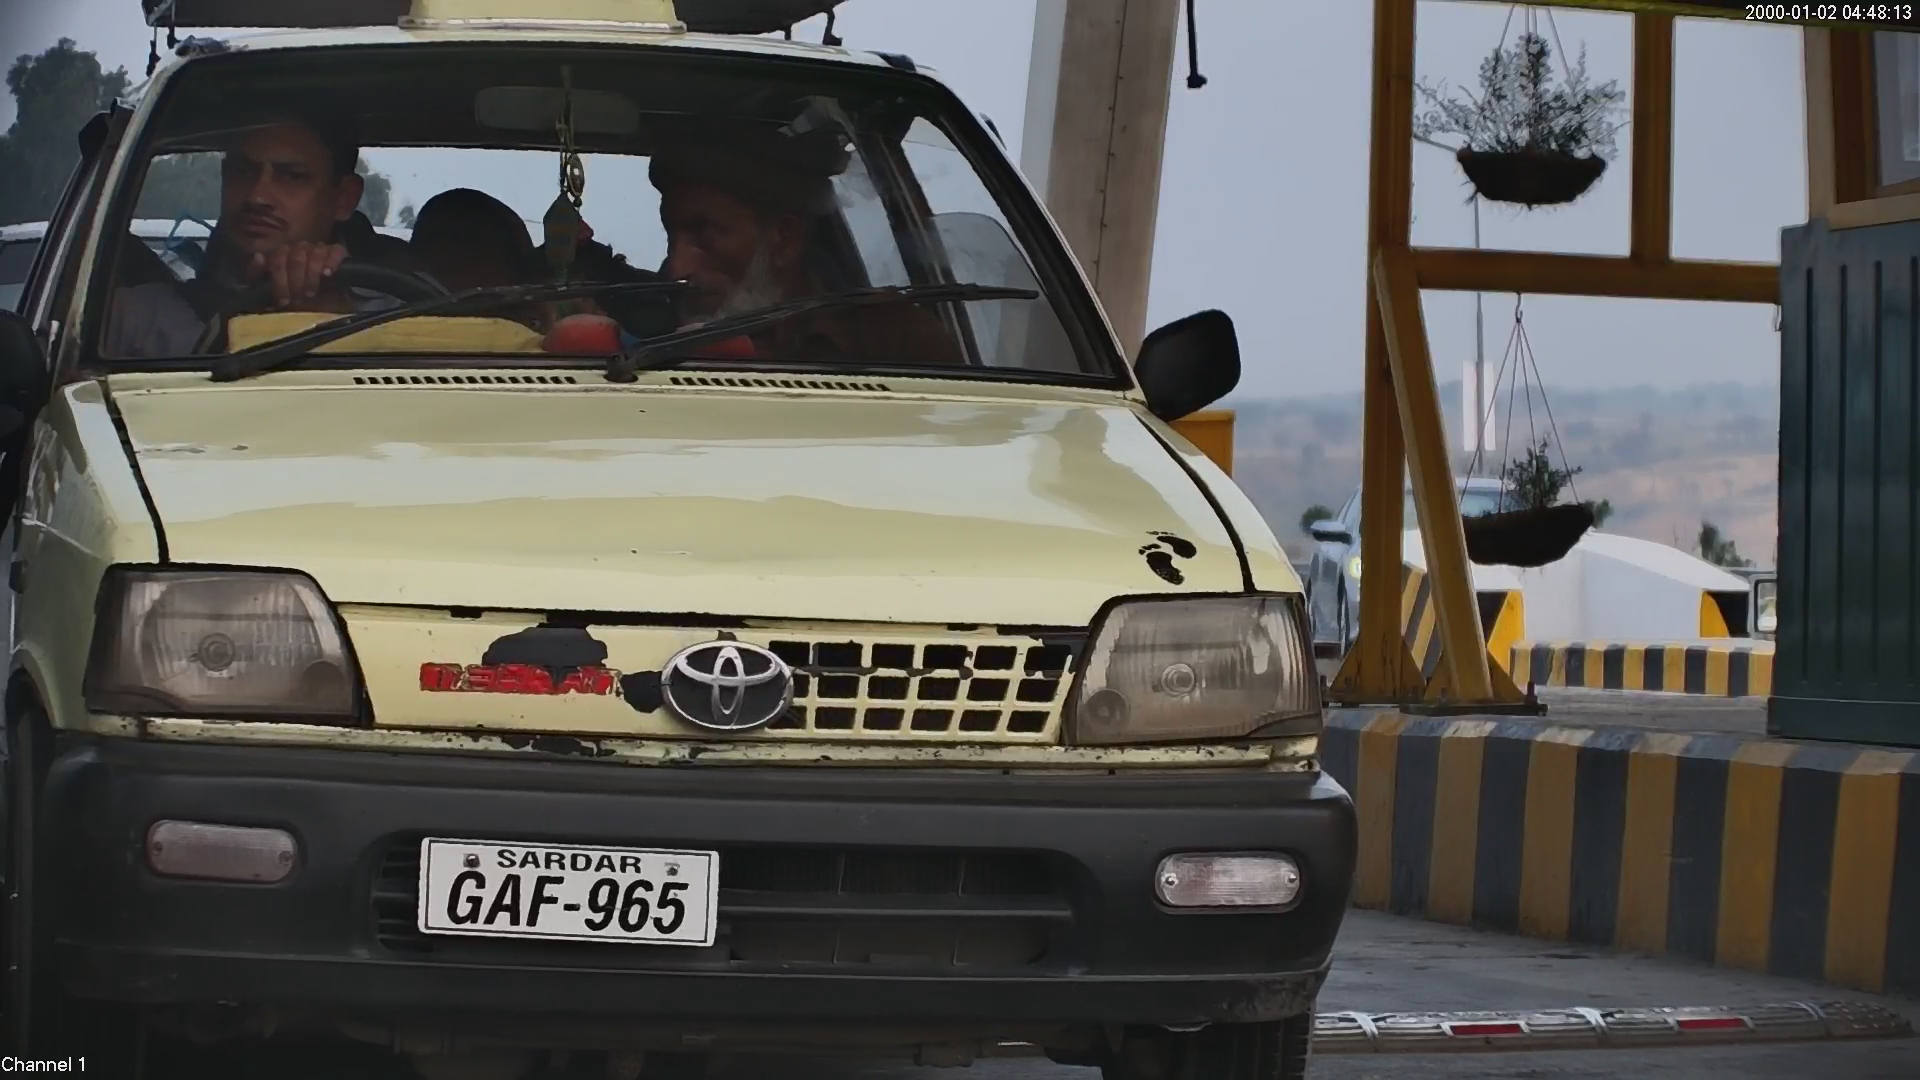Number_Plate: (398, 818, 733, 963)
